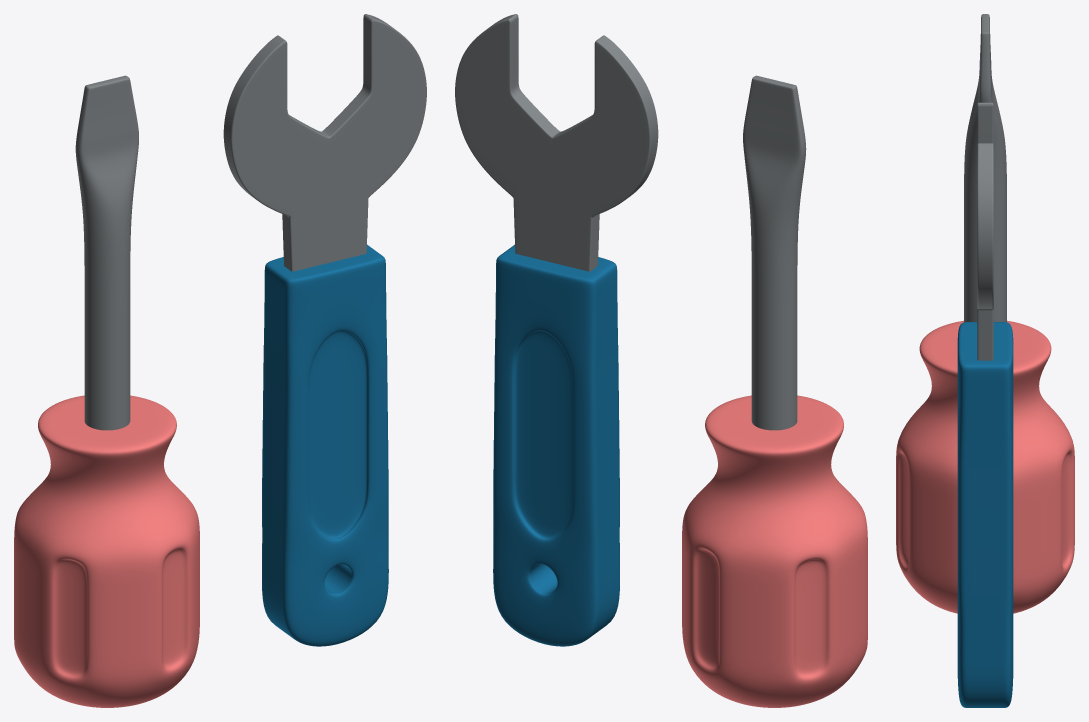
The model's file is tools.fbx.
3 views of the same model, side by side, from view 1: azimuth 30°, elevation 25°; view 2: azimuth 150°, elevation 25°; view 3: azimuth 270°, elevation 25° (orthographic). The views are drawn at different scales.
Parts seen in each view (by area): view 1: Cylinder.012; view 2: Cylinder.012; view 3: Cylinder.012.
Part boxes in pixels (left/top/right/bottom): Cylinder.012: left=14, top=14, right=426, bottom=707; Cylinder.012: left=455, top=14, right=867, bottom=707; Cylinder.012: left=896, top=14, right=1074, bottom=707.
Bounding box in the file's own units: 131 × 194 × 54.27.
